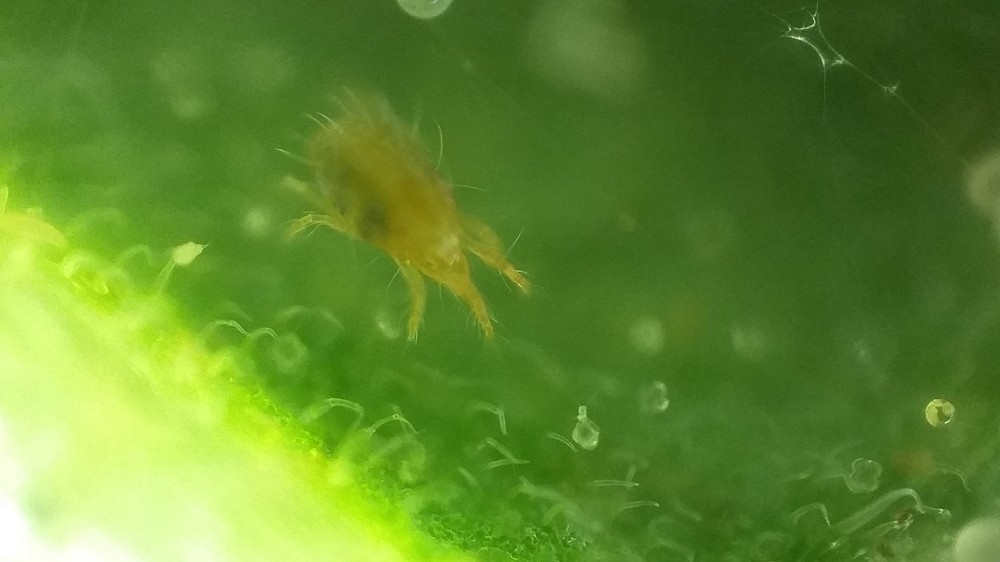Aracnido Rojo: (238, 73, 568, 354)
